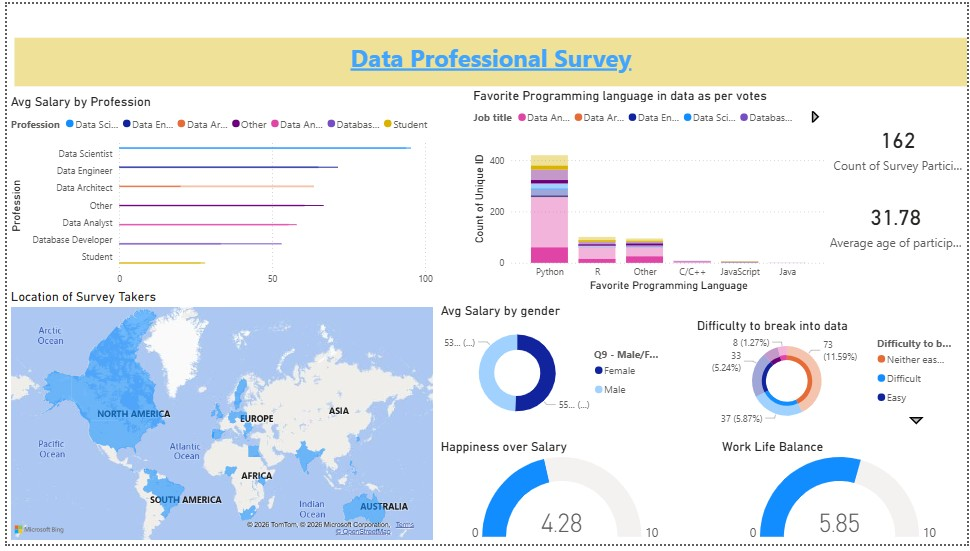

The page's visual inventory and layout, read from the dashboard file:
{"tool":"powerbi","page":{"name":"Page 1","canvas":[1280,720],"ordinal":0},"visuals":[{"type":"textbox","box":[9.6,0,1270.7,120.8],"z":0},{"type":"textbox","box":[9.6,45.3,1270.7,64.5],"z":1000},{"type":"card","fields":{"Values":["Count(Data Professional Survey.Unique ID)"]},"box":[1097.5,120.1,182.9,142.3],"z":2000},{"type":"card","fields":{"Values":["Avg(Data Professional Survey.Q10 - Current Age)"]},"box":[1090.1,227.3,190.3,133],"z":3000},{"type":"clusteredBarChart","title":"Avg Salary by Profession","fields":{"Category":["Data Professional Survey.Q1 - Which Title Best Fits your Current Role?.1.1"],"Y":["Avg(Data Professional Survey.Avg Salary)"],"Series":["Data Professional Survey.Q1 - Which Title Best Fits your Current Role?.1.1"]},"box":[0,120.1,572.8,279],"z":4000},{"type":"columnChart","title":"Favorite Programming language in data as per votes","fields":{"Category":["Data Professional Survey.Q5 - Favorite Programming Language.1.1"],"Y":["Count(Data Professional Survey.Unique ID)"],"Series":["Data Professional Survey.Q1 - Which Title Best Fits your Current Role?.1.1"]},"box":[617.1,110.9,480.4,277.1],"z":5000},{"type":"filledMap","fields":{"Category":["Data Professional Survey.Q11 - Which Country do you live in?"]},"box":[0,380.6,572.8,340],"z":5001},{"type":"gauge","title":"Work Life Balance","fields":{"Y":["Avg(Data Professional Survey.Q6 - How Happy are you in your Current Position with the following? (Coworkers))"],"MinValue":["Min(Data Professional Survey.Q6 - How Happy are you in your Current Position with the following? (Coworkers))"],"MaxValue":["Max(Data Professional Survey.Q6 - How Happy are you in your Current Position with the following? (Coworkers))1"]},"box":[947.8,580.1,332.6,140.4],"z":5002},{"type":"gauge","title":"Happiness over Salary","fields":{"Y":["Avg(Data Professional Survey.Q6 - How Happy are you in your Current Position with the following? (Salary))"],"MinValue":["Min(Data Professional Survey.Q6 - How Happy are you in your Current Position with the following? (Salary))"],"MaxValue":["Max(Data Professional Survey.Q6 - How Happy are you in your Current Position with the following? (Salary))1"]},"box":[572.8,580.1,341.8,140.4],"z":5003},{"type":"donutChart","title":"Avg Salary by gender","fields":{"Y":["Avg(Data Professional Survey.Avg Salary)"],"Category":["Data Professional Survey.Q9 - Male/Female?"]},"box":[572.8,399.1,310.4,168.1],"z":5004},{"type":"donutChart","title":"Difficulty to break into data","fields":{"Y":["CountNonNull(Data Professional Survey.Q7 - How difficult was it for you to break into Data?)"],"Category":["Data Professional Survey.Q7 - How difficult was it for you to break into Data?"]},"box":[914.6,417.6,352.9,149.7],"z":5005}]}

Visuals, with their boxes in screenshot pixels (x1, y1, x2, y2), scaled from the page's 1280x720 canvas onto the 970x551 screenshot:
textbox: 7,0,969,92
textbox: 7,35,969,84
card - Count(Data Professional Survey.Unique ID): 832,92,969,201
card - Avg(Data Professional Survey.Q10 - Current Age): 826,174,969,276
"Avg Salary by Profession" clusteredBarChart: 0,92,434,305
"Favorite Programming language in data as per votes" columnChart: 468,85,832,297
filledMap - Data Professional Survey.Q11 - Which Country do you live in?: 0,291,434,550
"Work Life Balance" gauge: 718,444,969,550
"Happiness over Salary" gauge: 434,444,693,550
"Avg Salary by gender" donutChart: 434,305,669,434
"Difficulty to break into data" donutChart: 693,320,961,434
